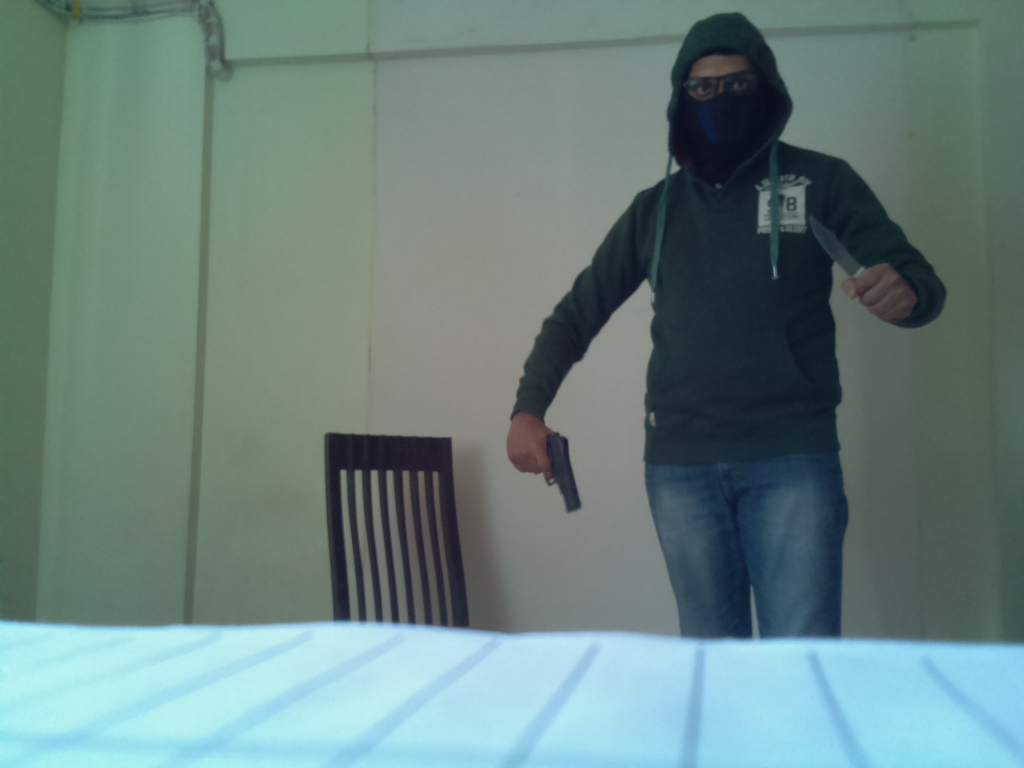gun: (523, 430, 592, 515)
knife: (804, 212, 870, 289)
